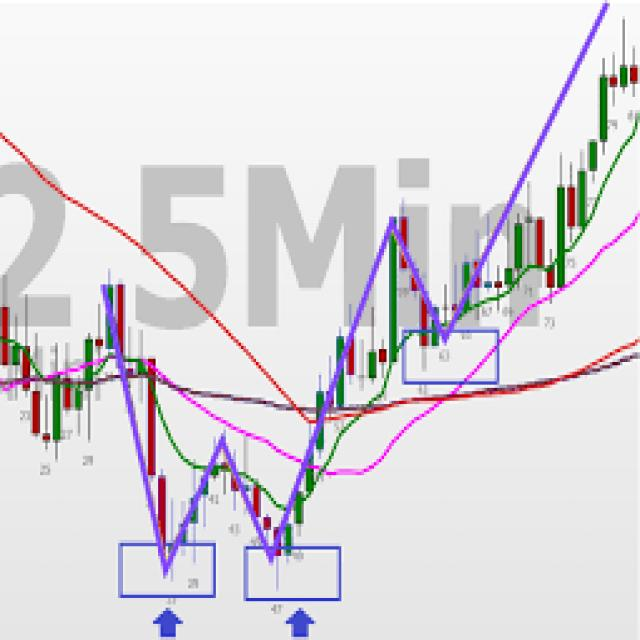fundo_duplo: (68, 263, 359, 584)
